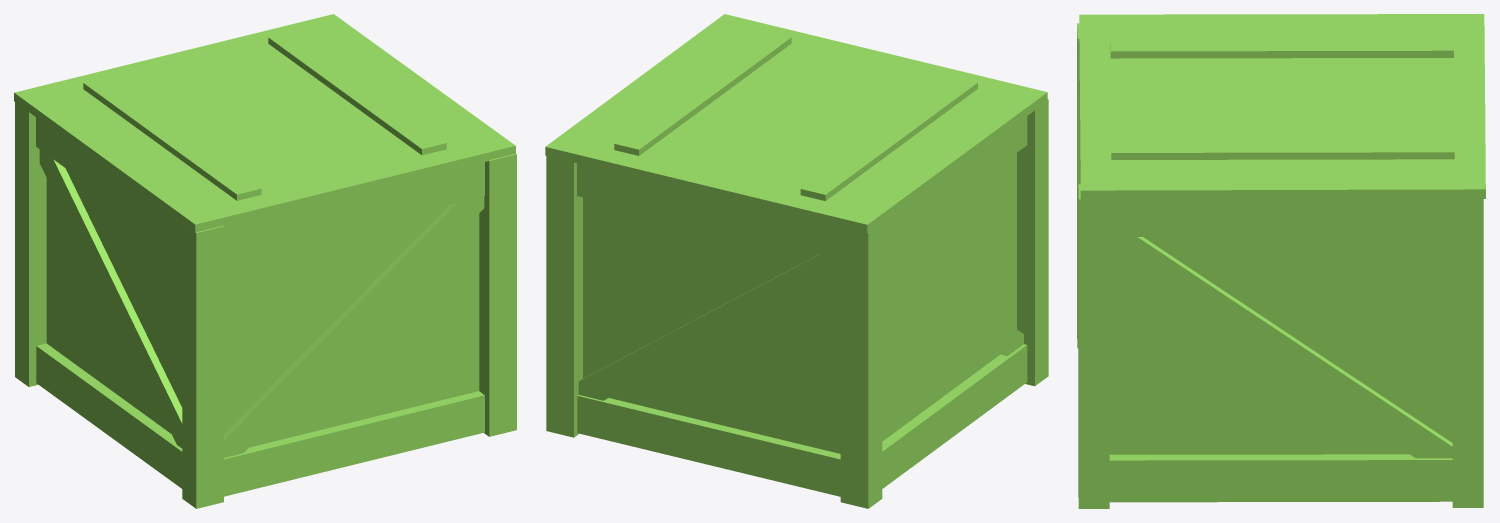
Rendered from Wooden Box_2_Closed_M.fbx.
The picture shows the model from 3 angles, left to right: view 1: azimuth 30°, elevation 25°; view 2: azimuth 150°, elevation 25°; view 3: azimuth 270°, elevation 25°; orthographic projection. The views are drawn at different scales.
Parts seen in each view (by area): view 1: Wooden Box_2_LOD0; view 2: Wooden Box_2_LOD0; view 3: Wooden Box_2_LOD0.
Part boxes in pixels (box(x1,y1,x2,y2)): Wooden Box_2_LOD0: box(14, 14, 516, 508); Wooden Box_2_LOD0: box(545, 14, 1048, 508); Wooden Box_2_LOD0: box(1077, 14, 1485, 508).
Size of what is drawn, in the model's own units: 56.13 by 48.31 by 54.96.
